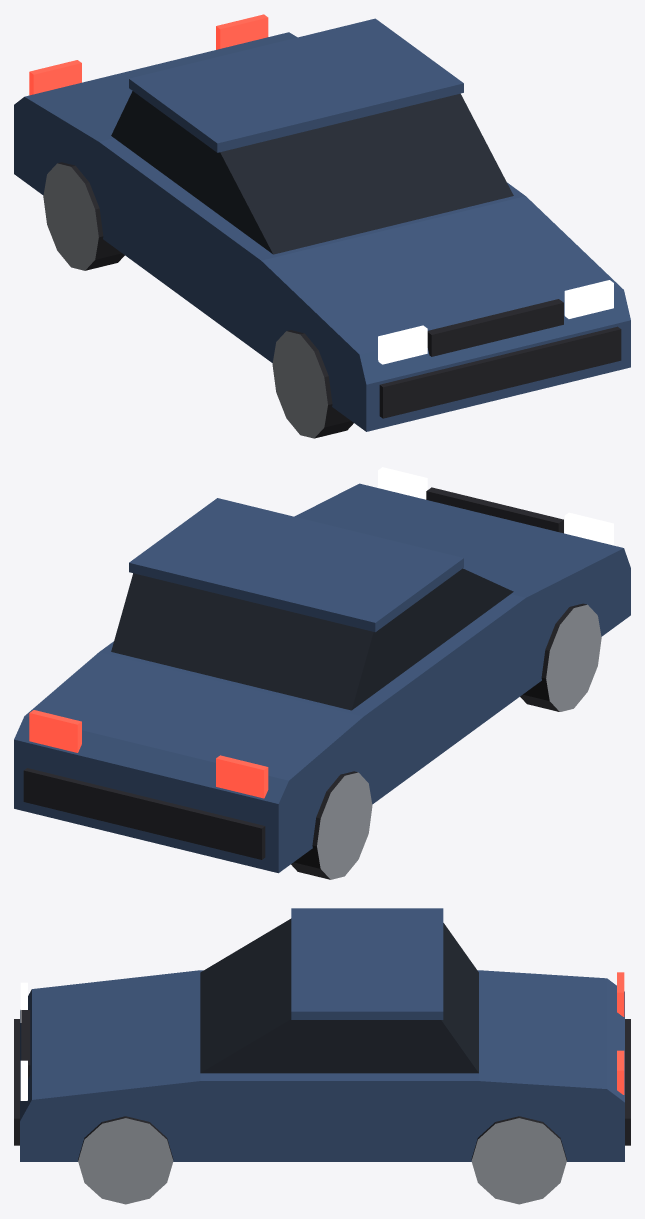
The model's file is sedan.glb.
3 views of the same model, one above another, from view 1: azimuth 30°, elevation 25°; view 2: azimuth 150°, elevation 25°; view 3: azimuth 270°, elevation 25° (orthographic). The views are drawn at different scales.
Parts seen in each view (by area): view 1: sedan, wheel_FR, wheel_RR; view 2: sedan, wheel_FR, wheel_RR; view 3: sedan, wheel_FL, wheel_RL.
Part boxes in pixels (x1,y1,x2,y2): sedan: [14, 14, 630, 431]; wheel_FR: [272, 330, 353, 438]; wheel_RR: [43, 162, 124, 270]; sedan: [14, 467, 630, 873]; wheel_FR: [520, 603, 601, 711]; wheel_RR: [291, 771, 372, 879]; sedan: [14, 908, 630, 1161]; wheel_FL: [78, 1116, 173, 1204]; wheel_RL: [471, 1116, 566, 1204].
Bounding box in the file's own units: 1.82 × 1.38 × 4.14.
